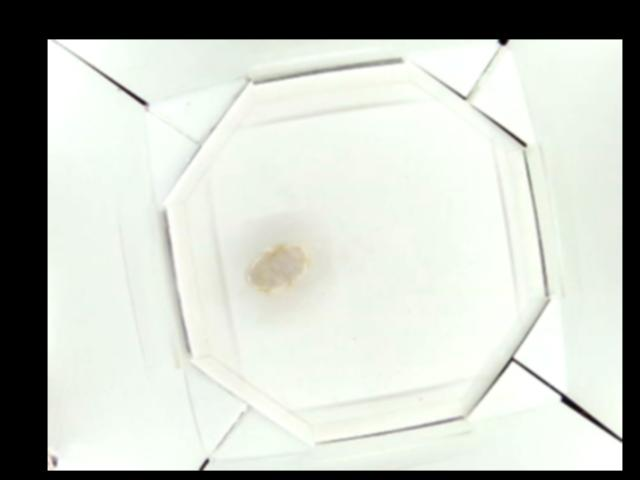Pebble: (246, 238, 306, 294)
